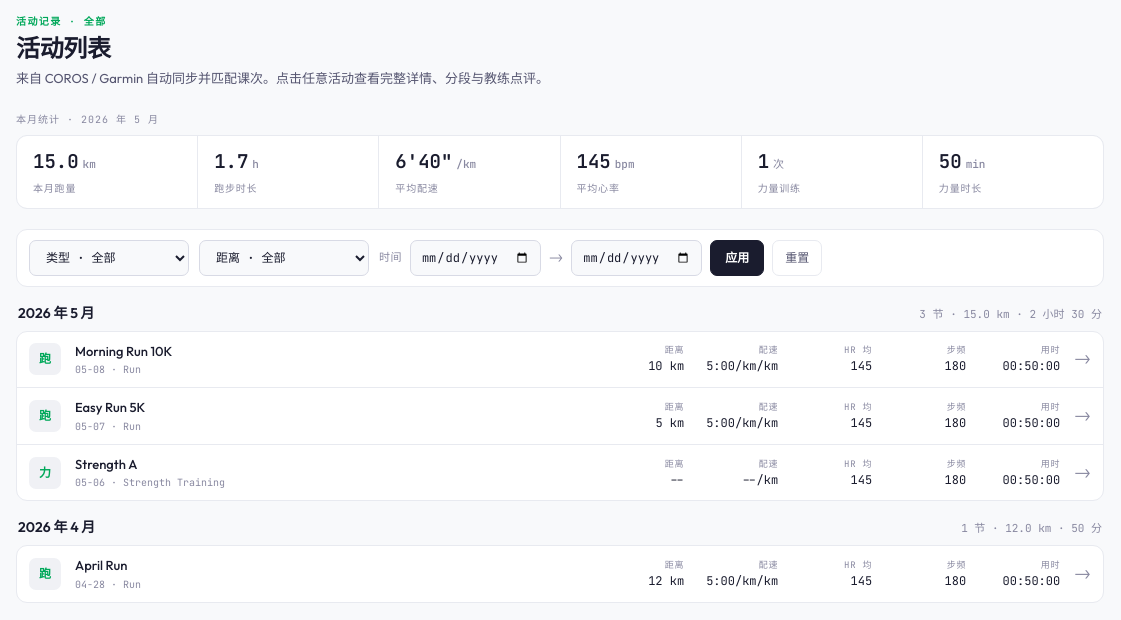
it: ActivitiesPage › shows an empty state when the server returns no matching activities
The width and height of the screenshot is (1121, 620).
Check: the text "Morning Run 10K" is shown, box [75,343,172,359]
Select "距离 · >= 40 km" in the dropdown named "距离下限" at {"x": 284, "y": 258}, box [199,240,369,276]
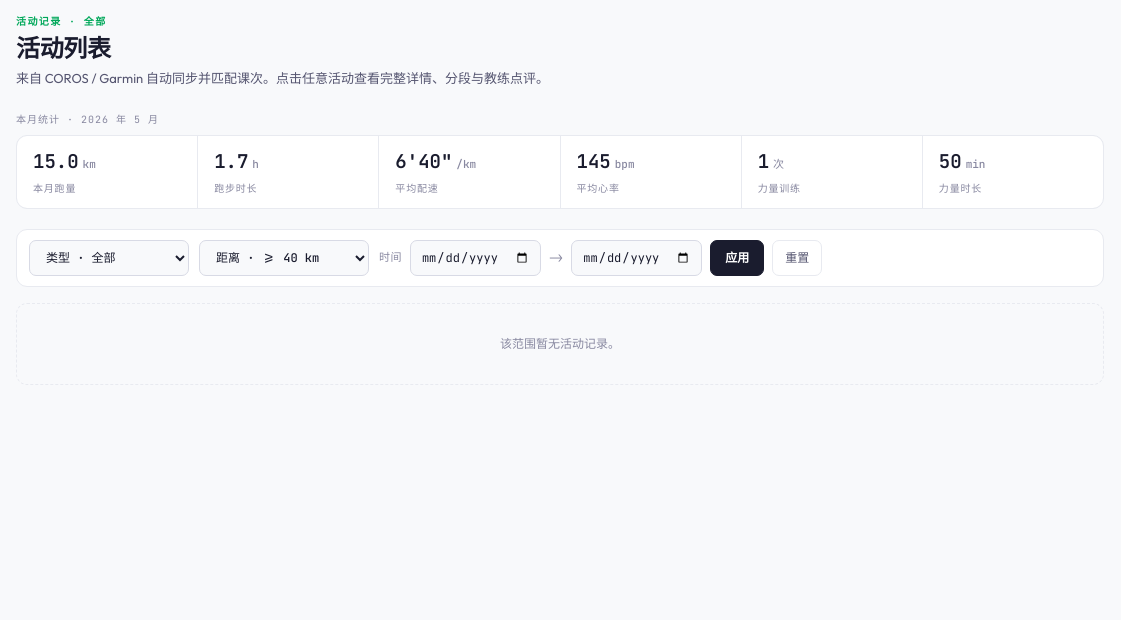
Check: the text "该范围暂无活动记录。" is shown, box [16,303,1104,385]
